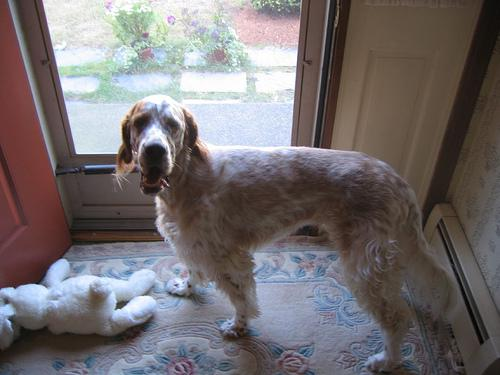dog-english_setter: (113, 92, 204, 194)
